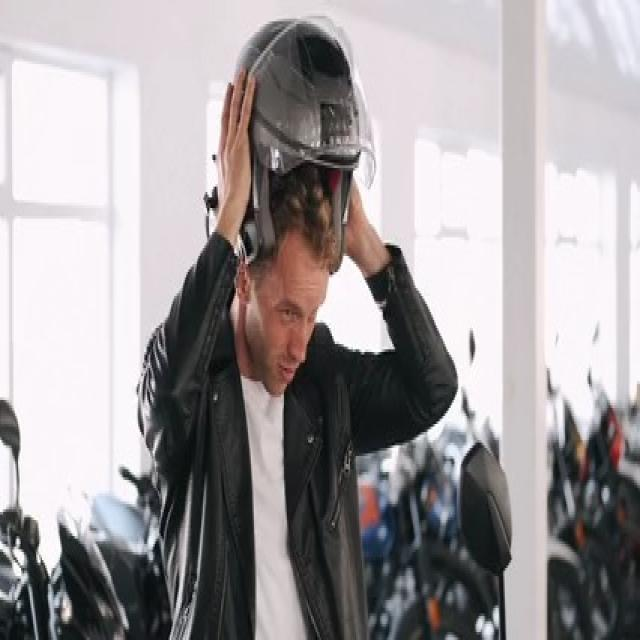Helmet_Wearer: (210, 3, 374, 376)
Jacket_Wearer: (134, 223, 456, 640)
Person: (132, 4, 465, 640)
